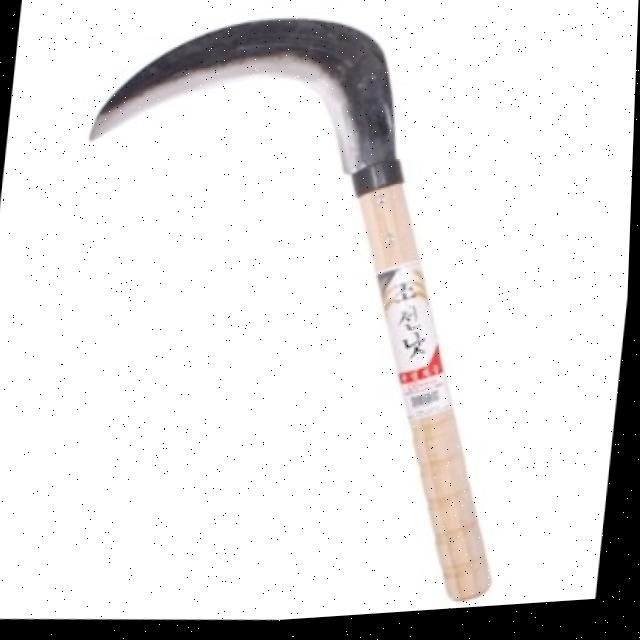sickle: (42, 0, 564, 606)
